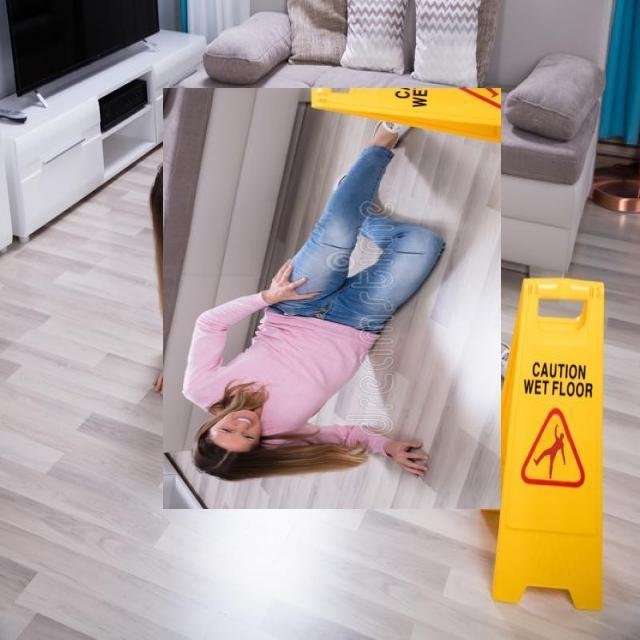Fall: (163, 123, 483, 507)
